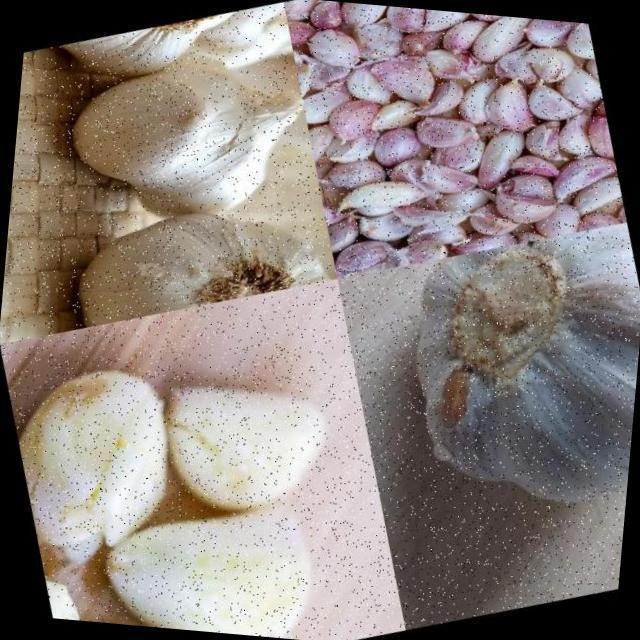garlic: (260, 0, 640, 303), (366, 203, 640, 549), (29, 7, 335, 267), (46, 158, 344, 352), (0, 337, 206, 567), (138, 350, 352, 540), (90, 480, 335, 640), (30, 0, 294, 114)
